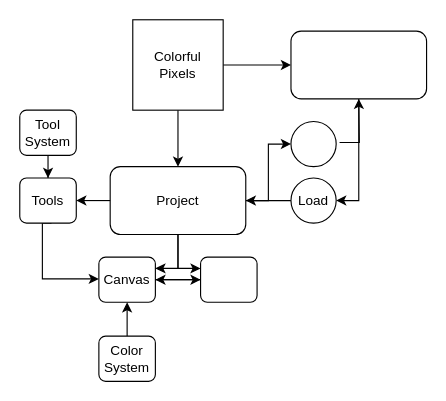
Image size: 446x401. Some labels were removed from this diagram. The shapes that lost their labels are listed below. From the top down, each one's box as (x1, y1, x2, y2) in pixels, then its label:
(290, 30, 427, 99): IO
(290, 120, 336, 167): Save
(199, 256, 257, 302): Layer
